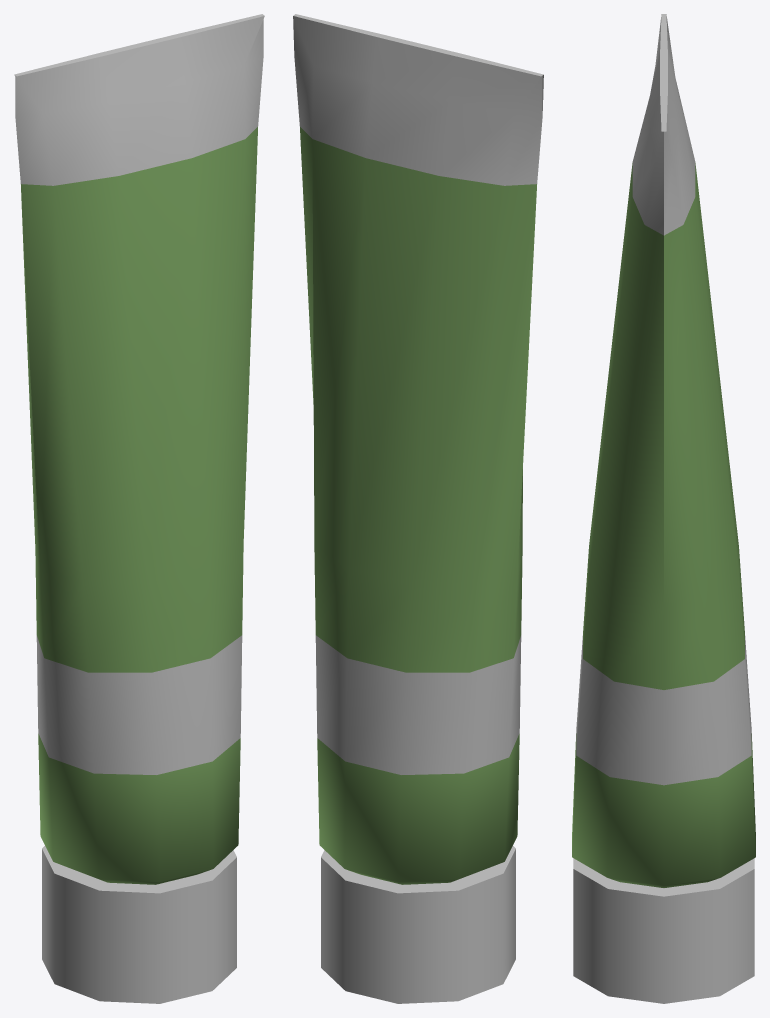
File: MoistureCream_01.fbx
The picture shows the model from 3 angles, left to right: view 1: azimuth 30°, elevation 25°; view 2: azimuth 150°, elevation 25°; view 3: azimuth 270°, elevation 25°; orthographic projection. The views are drawn at different scales.
Parts seen in each view (by area): view 1: MoistureCream_01, MoistureCream_01_Lid; view 2: MoistureCream_01, MoistureCream_01_Lid; view 3: MoistureCream_01, MoistureCream_01_Lid.
Part boxes in pixels (x1,y1,x2,y2): MoistureCream_01: [14, 14, 264, 884]; MoistureCream_01_Lid: [42, 846, 236, 1003]; MoistureCream_01: [293, 14, 543, 884]; MoistureCream_01_Lid: [321, 846, 515, 1003]; MoistureCream_01: [572, 14, 755, 887]; MoistureCream_01_Lid: [573, 858, 754, 1003].
Bounding box in the file's own units: 0.0427 × 0.151 × 0.0282.
